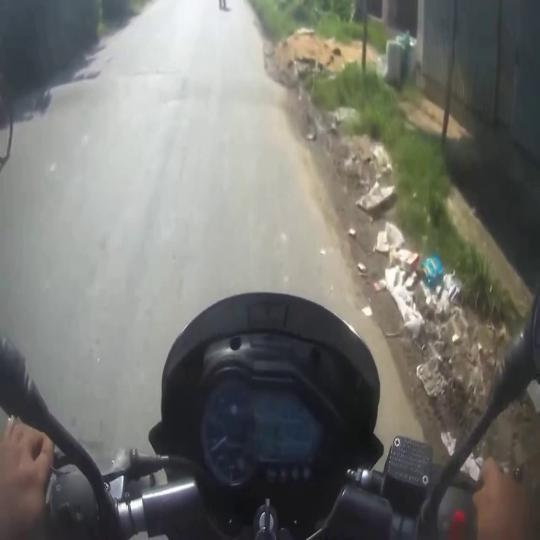Speed Bump: (13, 72, 307, 118)
